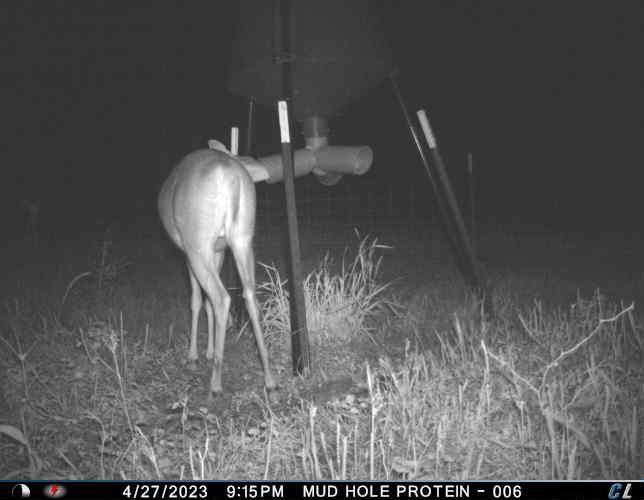Deer: (153, 136, 284, 403)
